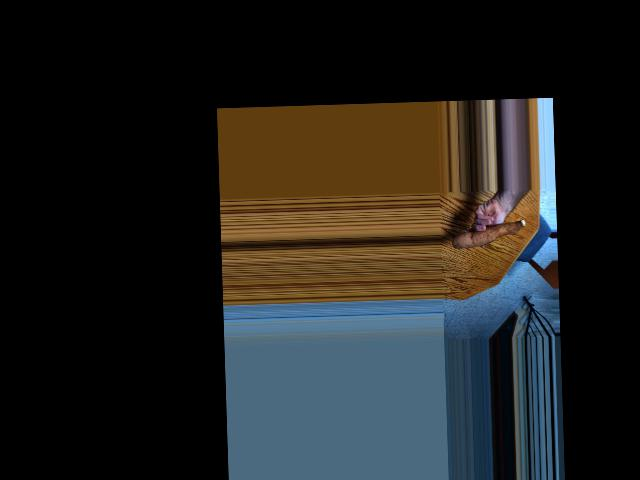sweet_potato: (453, 215, 525, 252)
